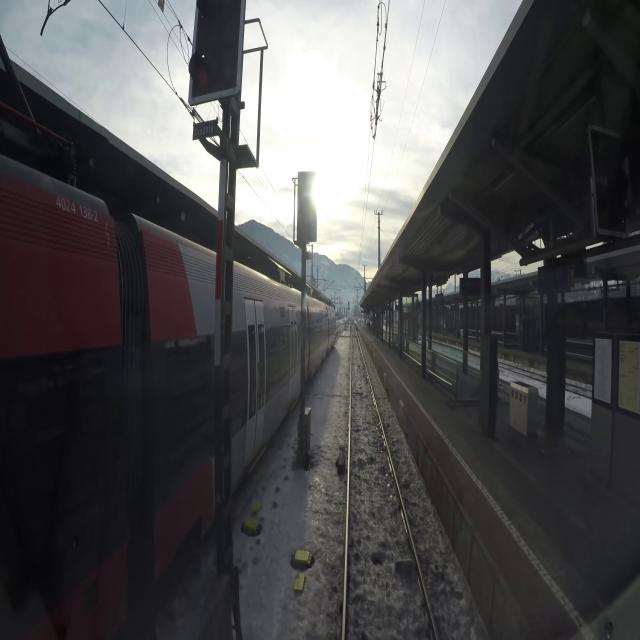rail-track: (346, 325, 434, 639), (609, 400, 640, 411)
